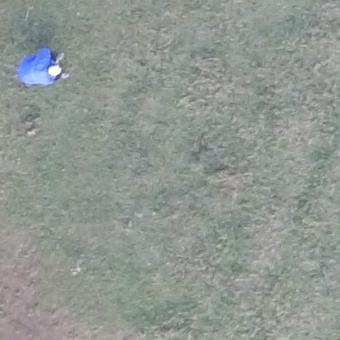human: (15, 44, 71, 88)
